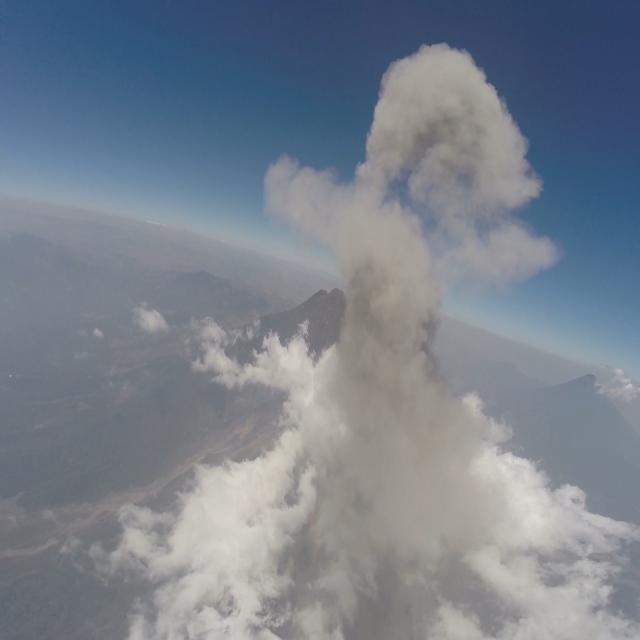Plume: (249, 142, 513, 599), (362, 34, 548, 240)
